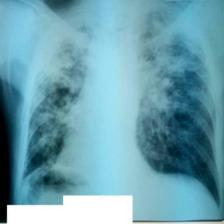tuberculosis: (13, 2, 223, 221)
